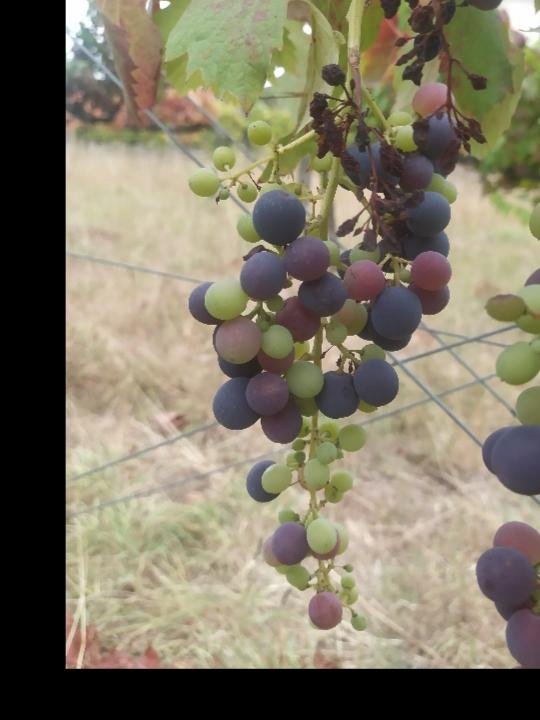grape: (186, 66, 460, 634), (380, 0, 514, 179)
